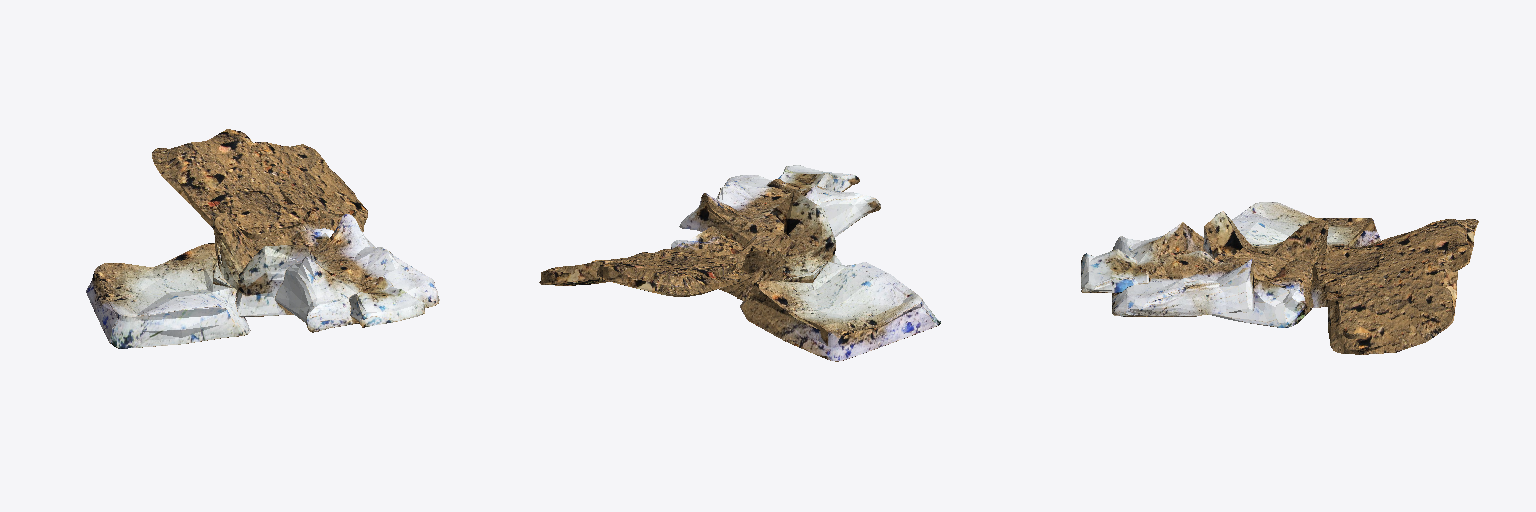
3 renders of one model, left to right at view 1: azimuth 30°, elevation 25°; view 2: azimuth 150°, elevation 25°; view 3: azimuth 270°, elevation 25°, orthographic.
Visible parts, largest first — view 1: floor_TextureAtlas_mergedObject; view 2: floor_TextureAtlas_mergedObject; view 3: floor_TextureAtlas_mergedObject.
Part boxes in pixels (bbox=[...]): floor_TextureAtlas_mergedObject: bbox=[86, 129, 439, 348]; floor_TextureAtlas_mergedObject: bbox=[539, 165, 940, 361]; floor_TextureAtlas_mergedObject: bbox=[1081, 202, 1478, 354].
Size of the model in its own units: 20.84 by 5.41 by 22.79.
1 materials, 1 textured.